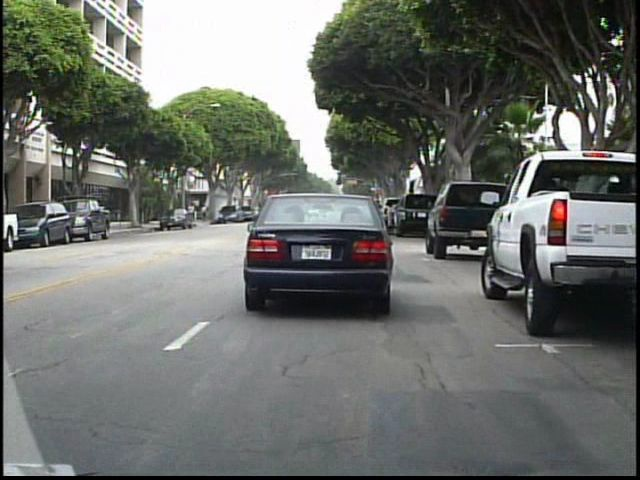person: (186, 202, 198, 227), (199, 201, 211, 226)
